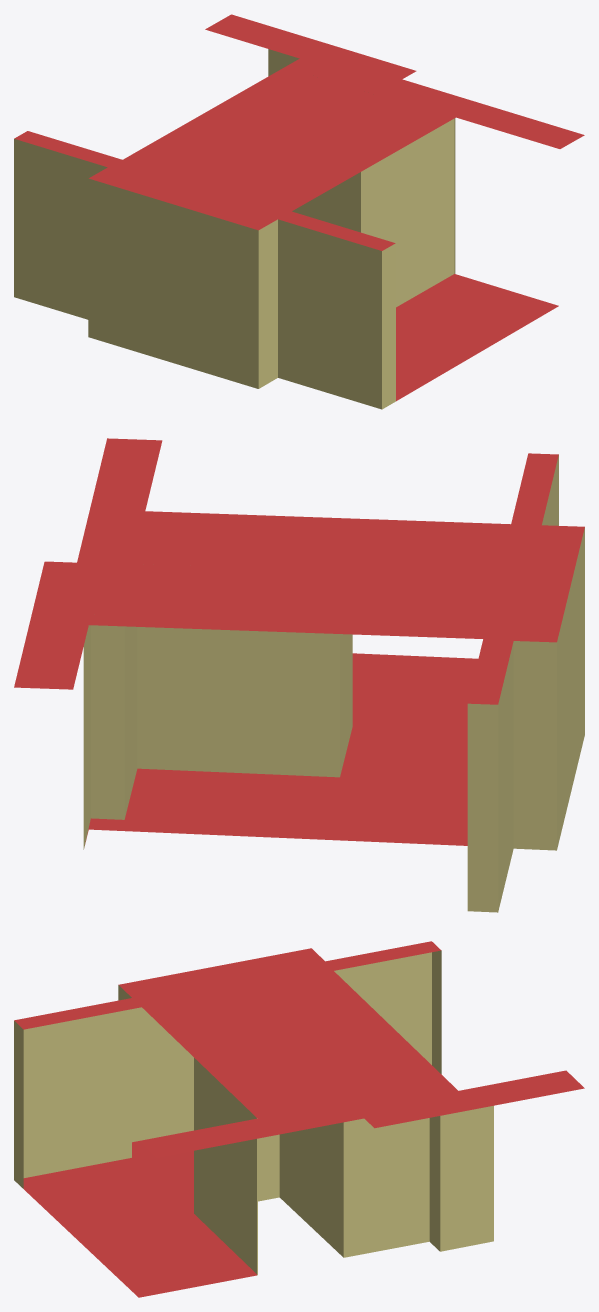
3 renders of one model, top to bottom at view 1: azimuth 30°, elevation 25°; view 2: azimuth 150°, elevation 25°; view 3: azimuth 270°, elevation 25°, orthographic. The views are drawn at different scales.
Size of the model in its own units: 16.04 by 18.1 by 5.6.
